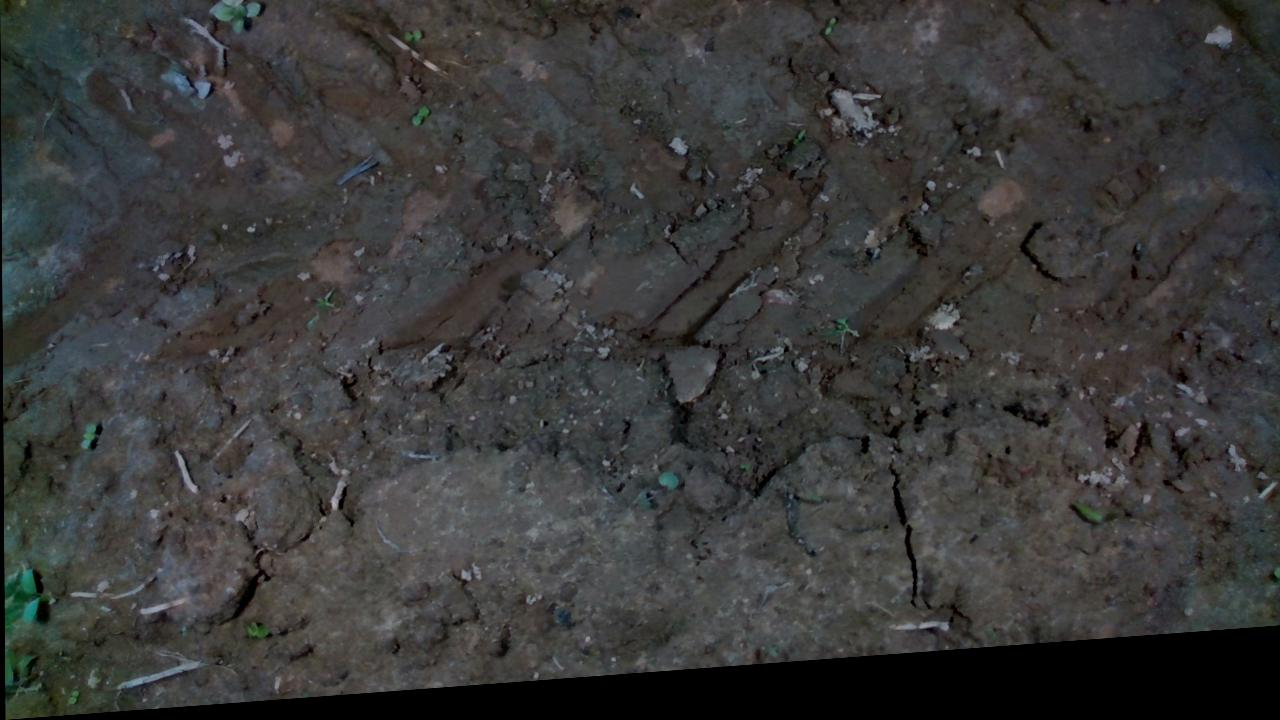weed: (77, 421, 96, 452), (409, 111, 429, 133), (401, 31, 421, 48), (822, 27, 837, 48), (788, 140, 805, 157)
